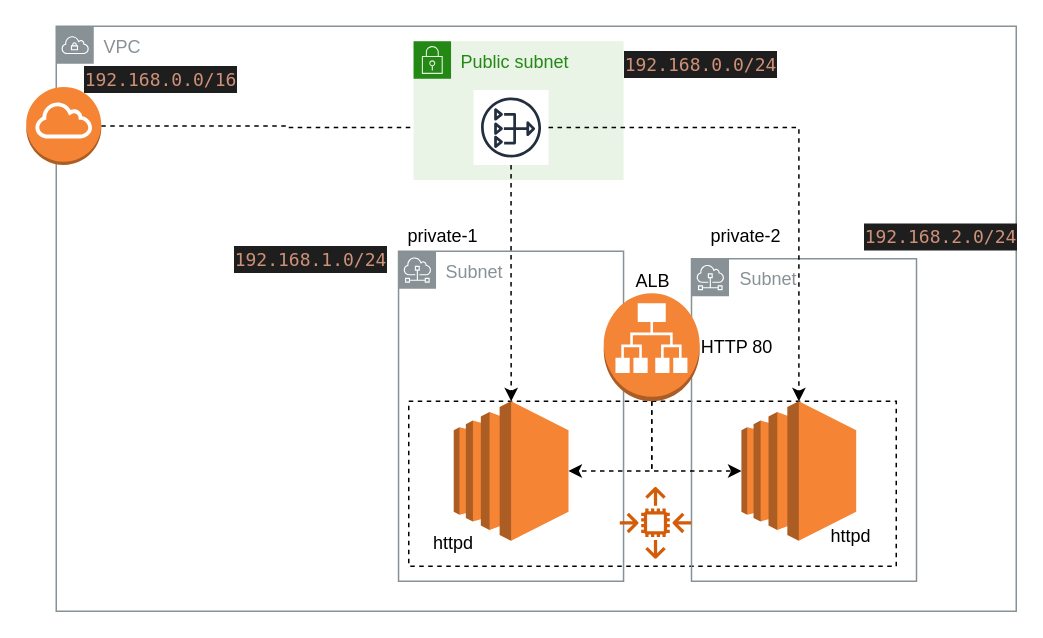
Some shapes in this 1043 by 638 pixel diagram are drawn without their labels. The centre of each missing label's shape, as x and y in pixels:
"IGW" goes at (x=63, y=125).
"NAT gateway" goes at (x=510, y=126).
